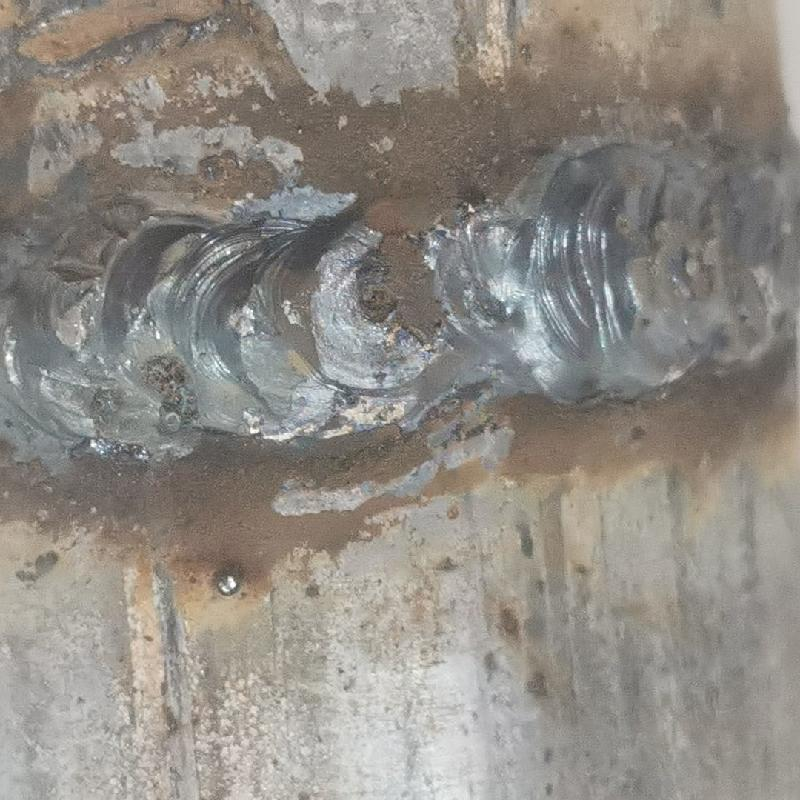good: (1, 133, 798, 480)
